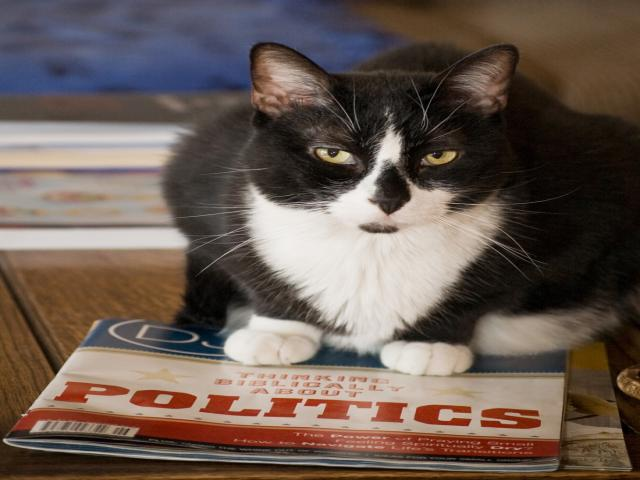Cat: (160, 46, 636, 379)
